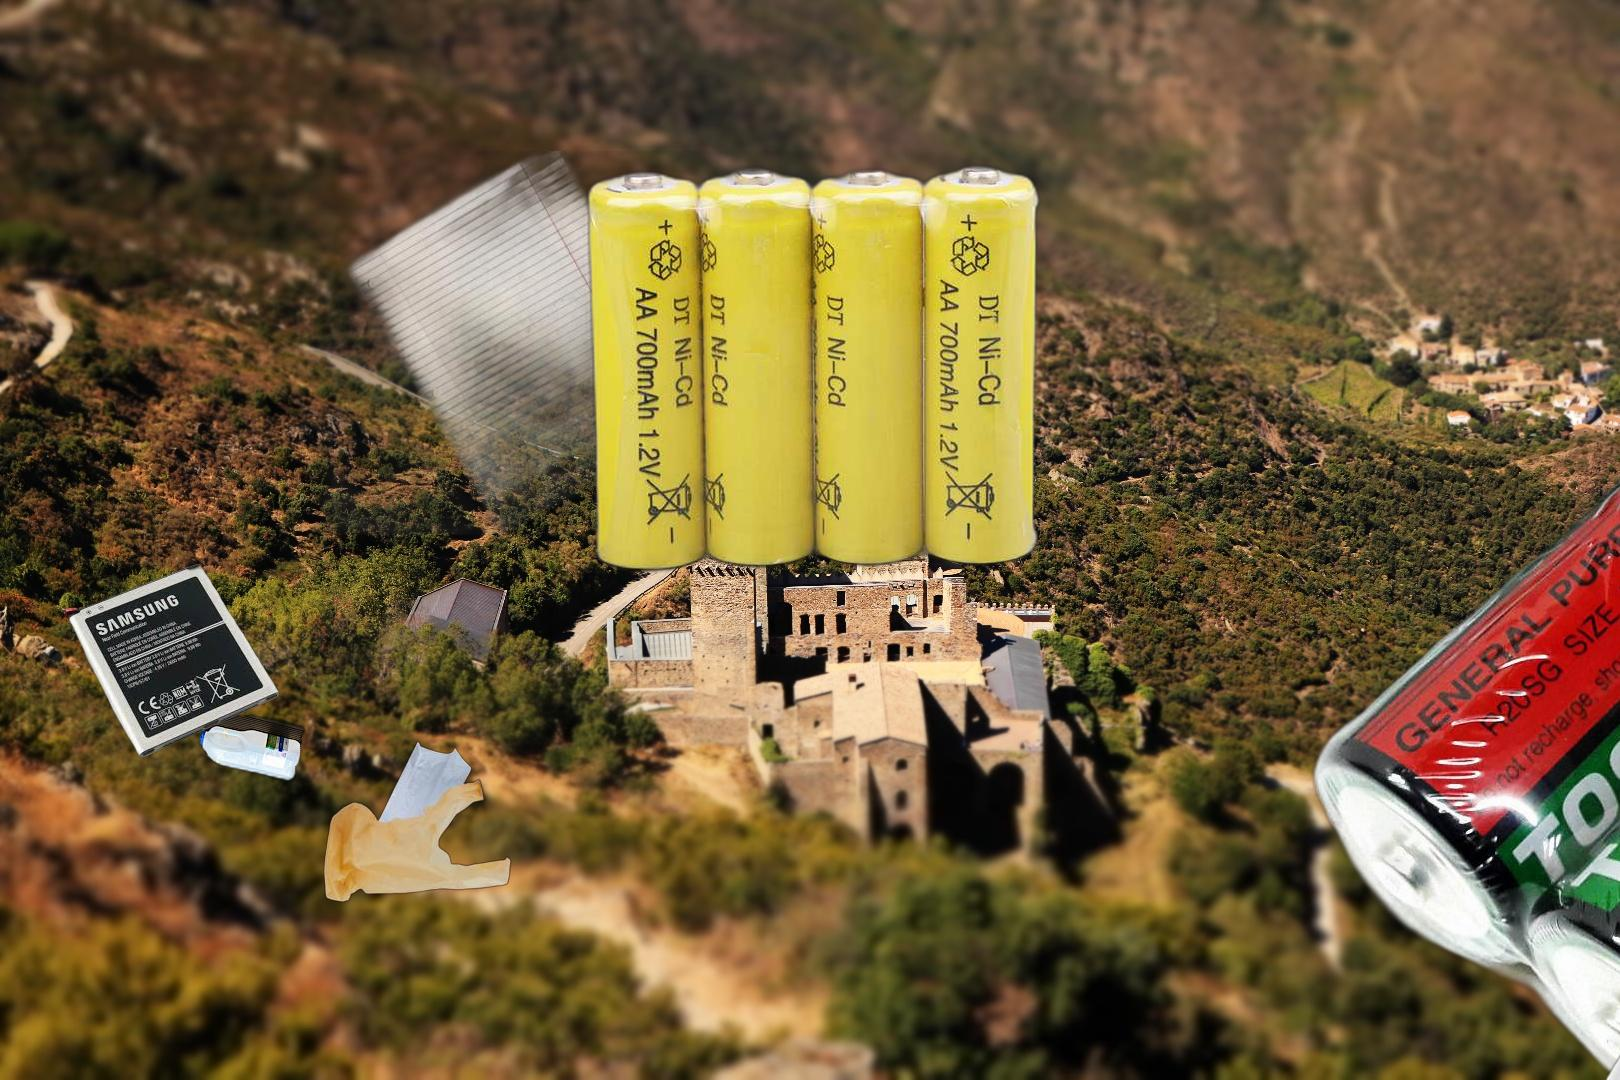battery: (1305, 441, 1620, 1080), (580, 159, 1046, 579), (65, 560, 282, 761)
paper: (309, 151, 821, 535), (1602, 981, 1620, 1080)
plastic-bag: (321, 739, 513, 905)
plastic-bottles: (194, 706, 309, 786)
